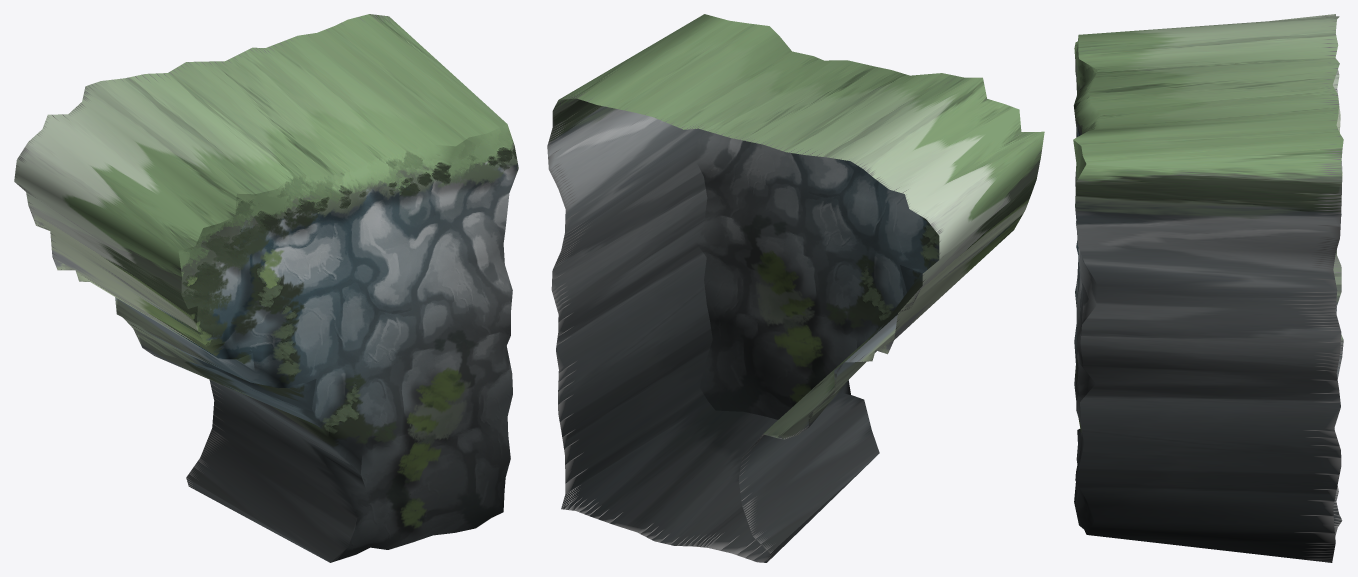
File: iseki_B.fbx
3 renders of one model, left to right at view 1: azimuth 30°, elevation 25°; view 2: azimuth 150°, elevation 25°; view 3: azimuth 270°, elevation 25°, orthographic. The views are drawn at different scales.
Visible parts, largest first — view 1: B; view 2: B; view 3: B.
Boxes of the visible parts, x1,y1,x2,y2 form: B: [14, 14, 518, 562]; B: [547, 14, 1044, 562]; B: [1073, 14, 1343, 562].
Bounding box in the file's own units: 41.63 × 43.66 × 26.03.
